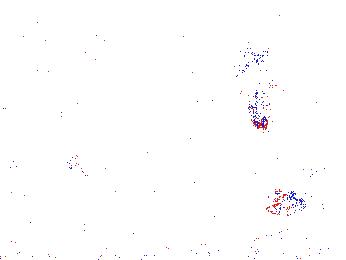flame jellyfish: (265, 167, 346, 219), (234, 54, 278, 128), (38, 153, 86, 206)
